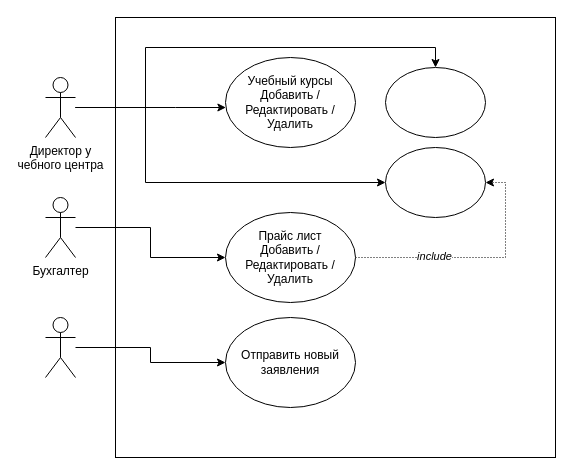
This 573x475 diagram has some shape labels left out. The box of each missing label's shape, as (x1, y1, x2, y2) in pixels:
Назначить учителя: (384, 66, 486, 138)
Назначить цены: (384, 146, 486, 218)
Организация заявитель на обучения: (44, 316, 76, 378)
